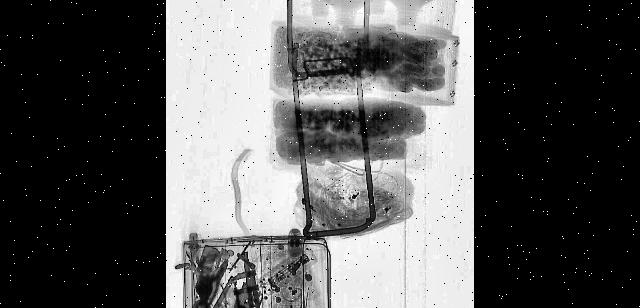Pliers: (197, 247, 230, 308)
